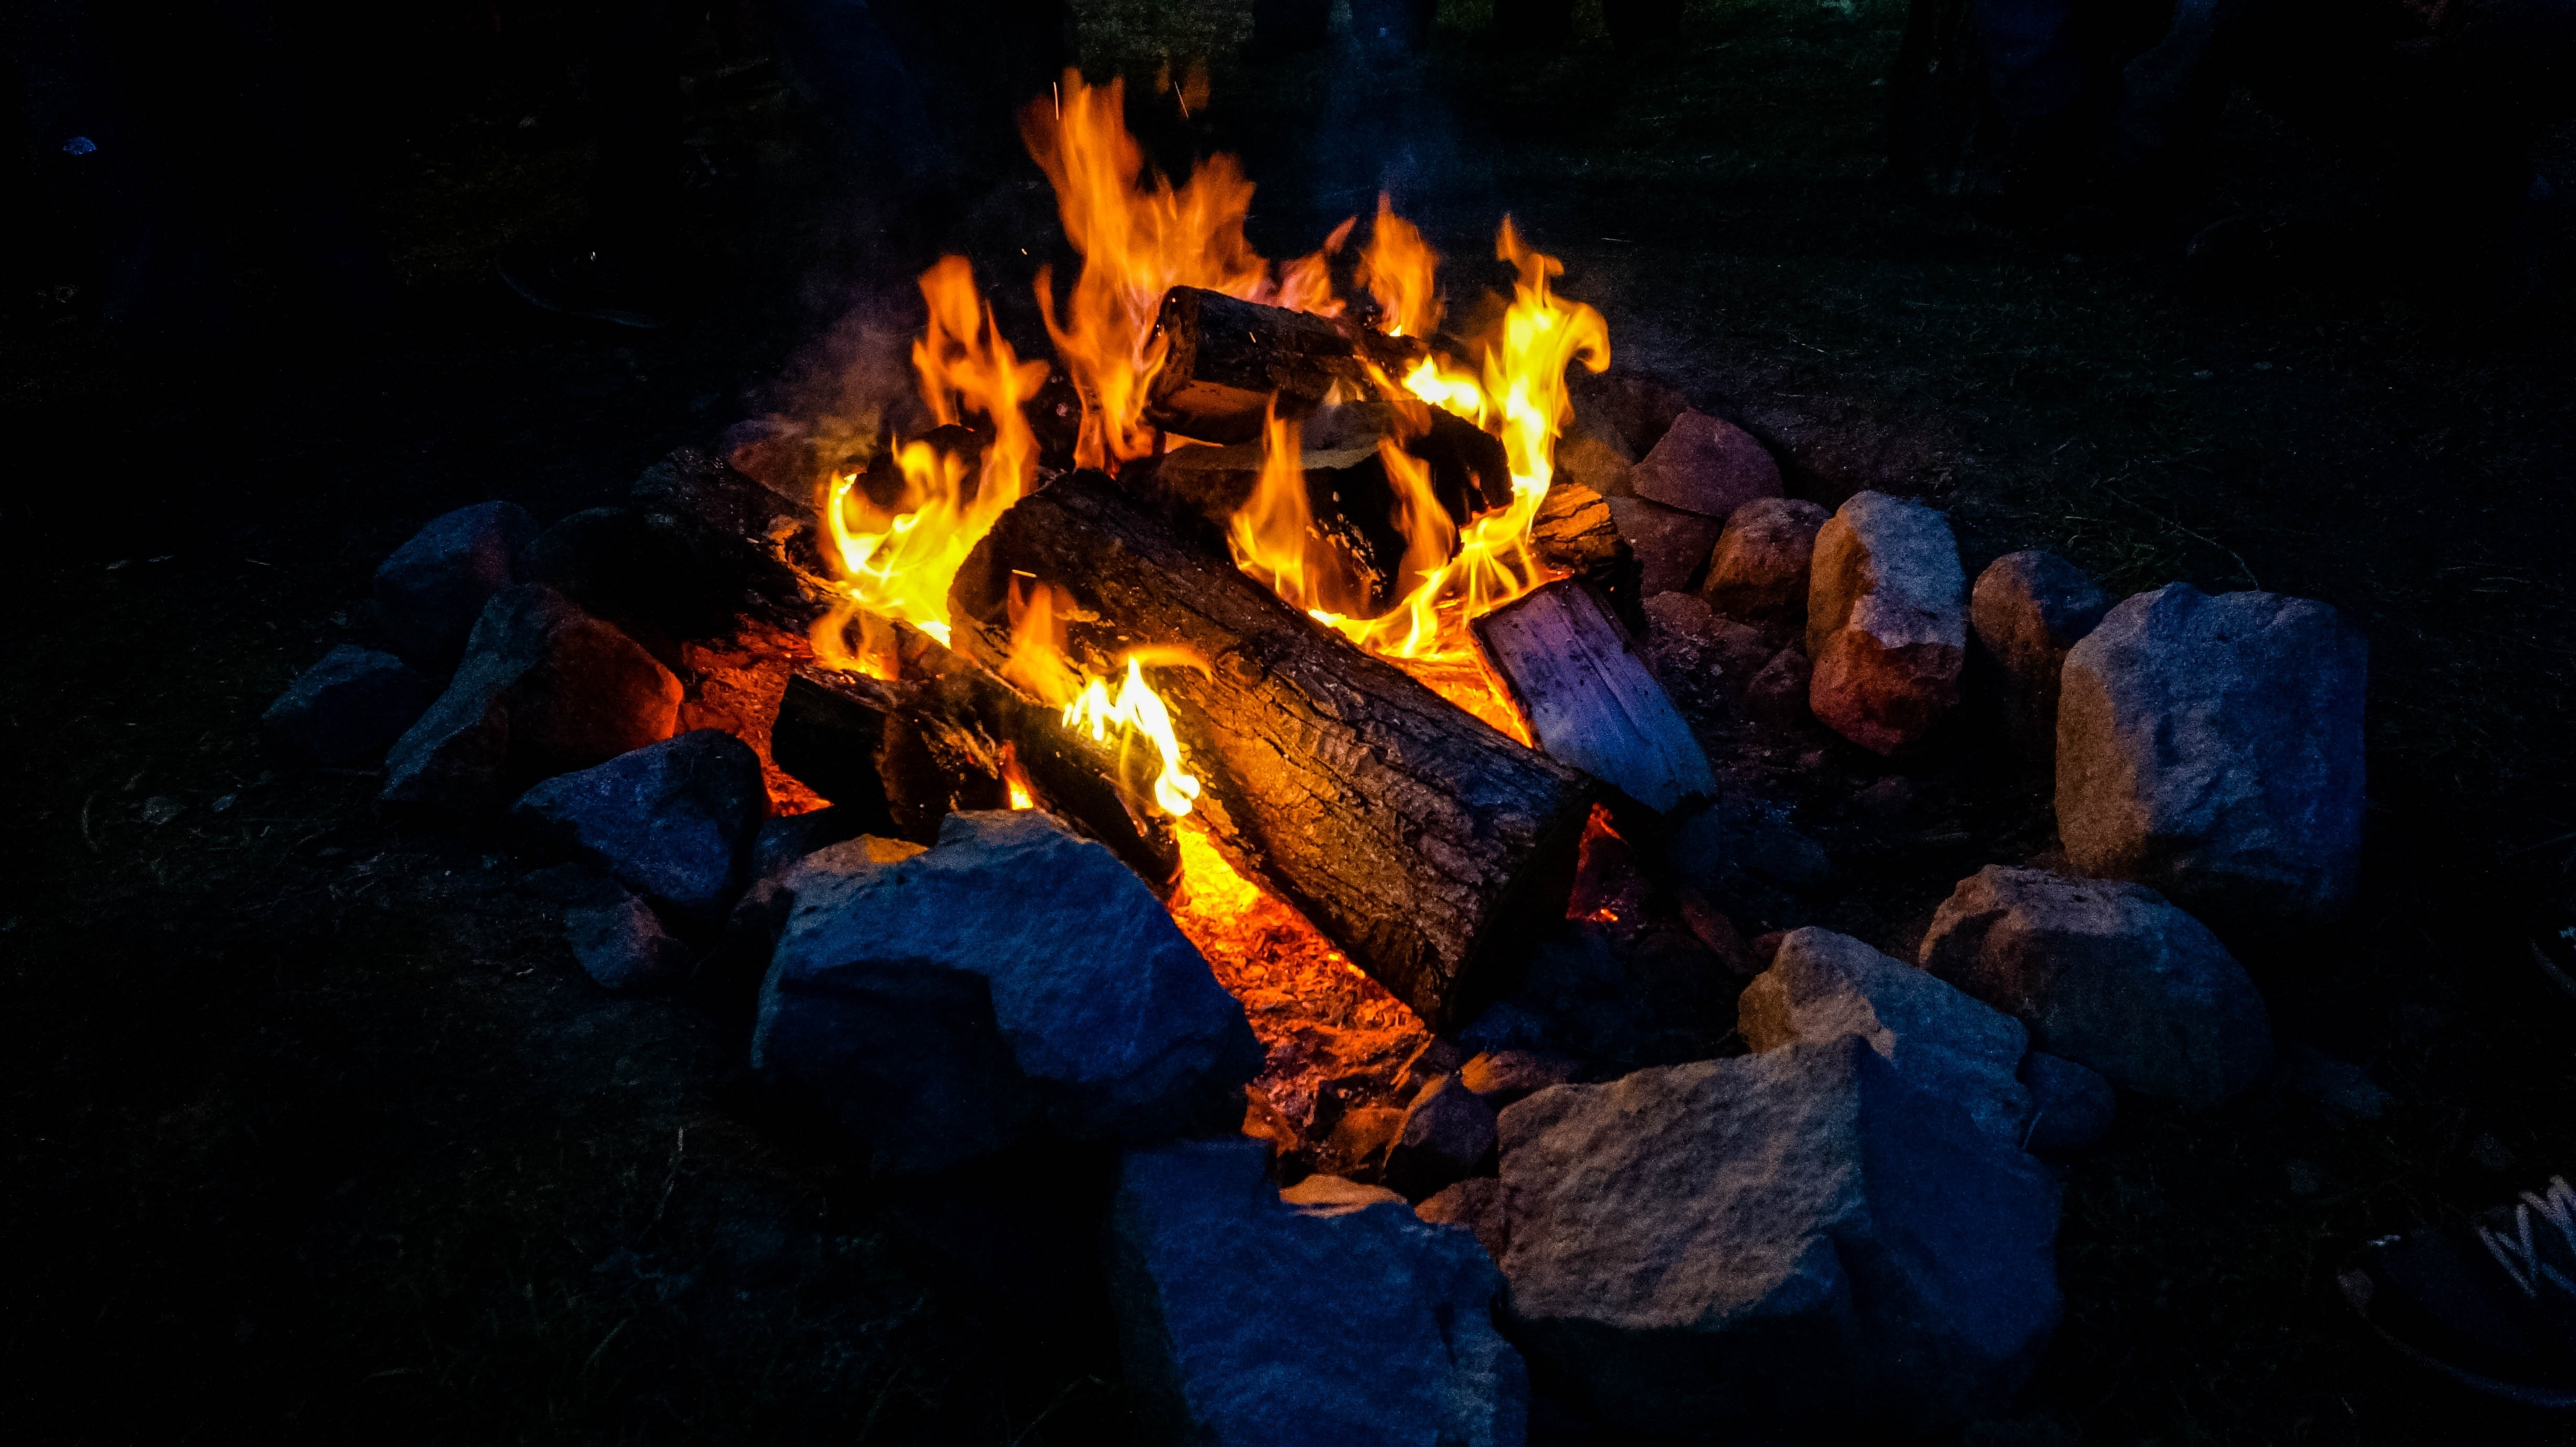fire: (782, 97, 1621, 860)
